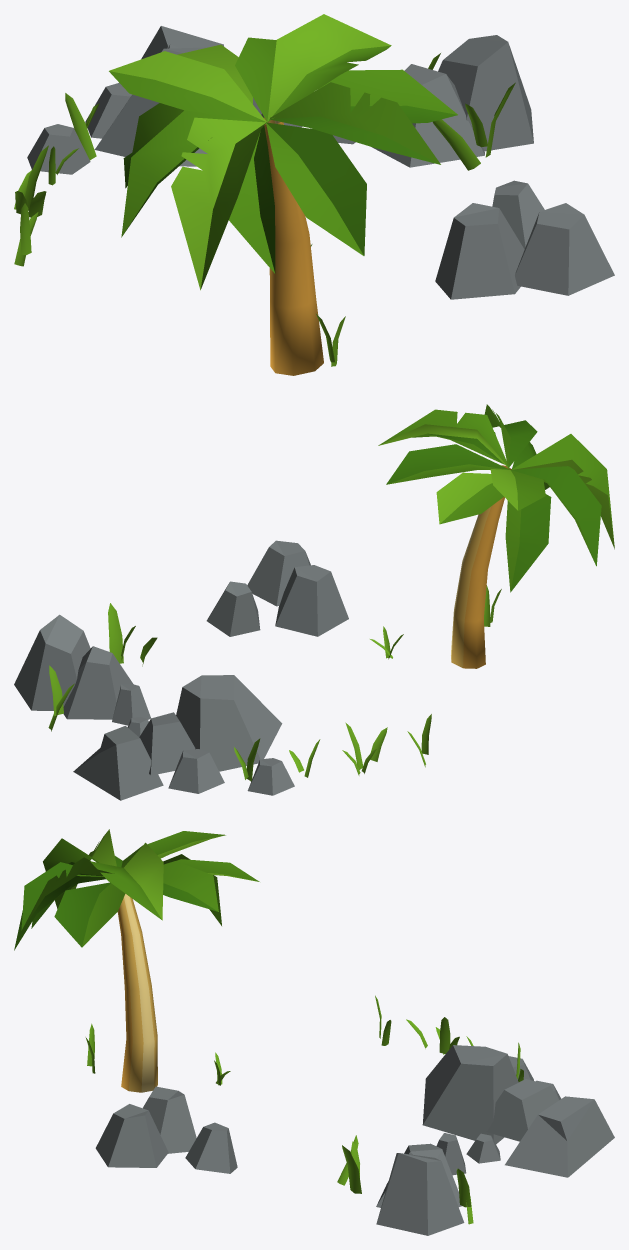
Rendered from Flora_Small_01.fbx.
The picture shows the model from 3 angles, top to bottom: view 1: azimuth 30°, elevation 25°; view 2: azimuth 150°, elevation 25°; view 3: azimuth 270°, elevation 25°; orthographic projection. The views are drawn at different scales.
Visible parts, largest first — view 1: Color_09, Color_07, Color_02, Color_08, Color_05, Color_04; view 2: Color_09, Color_08, Color_02, Color_07, Color_05, Color_04, Color_06; view 3: Color_09, Color_08, Color_07, Color_02, Color_04, Color_05.
Part boxes in pixels (bbox=[...]): Color_09: bbox=[109, 14, 457, 375]; Color_07: bbox=[435, 180, 614, 299]; Color_02: bbox=[261, 35, 533, 167]; Color_08: bbox=[27, 26, 261, 174]; Color_05: bbox=[14, 93, 99, 266]; Color_04: bbox=[428, 53, 515, 170]; Color_09: bbox=[378, 404, 614, 668]; Color_08: bbox=[73, 675, 294, 800]; Color_02: bbox=[14, 614, 150, 736]; Color_07: bbox=[206, 540, 348, 636]; Color_05: bbox=[234, 714, 431, 781]; Color_04: bbox=[48, 603, 157, 731]; Color_06: bbox=[370, 585, 501, 659]; Color_09: bbox=[14, 829, 259, 1092]; Color_08: bbox=[422, 1045, 614, 1177]; Color_07: bbox=[95, 1086, 237, 1173]; Color_02: bbox=[376, 1133, 500, 1235]; Color_04: bbox=[337, 1135, 473, 1224]; Color_05: bbox=[375, 995, 523, 1081].
Size of the model in its own units: 32.18 by 17.49 by 37.74.
